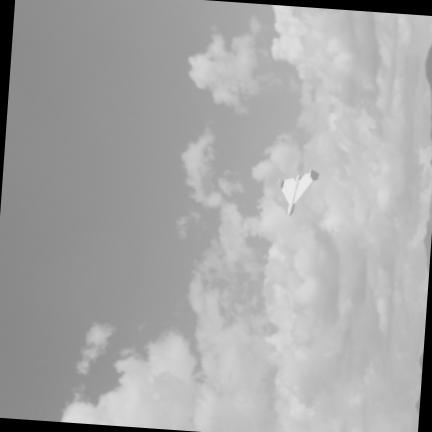Shahed: (278, 168, 318, 213)
